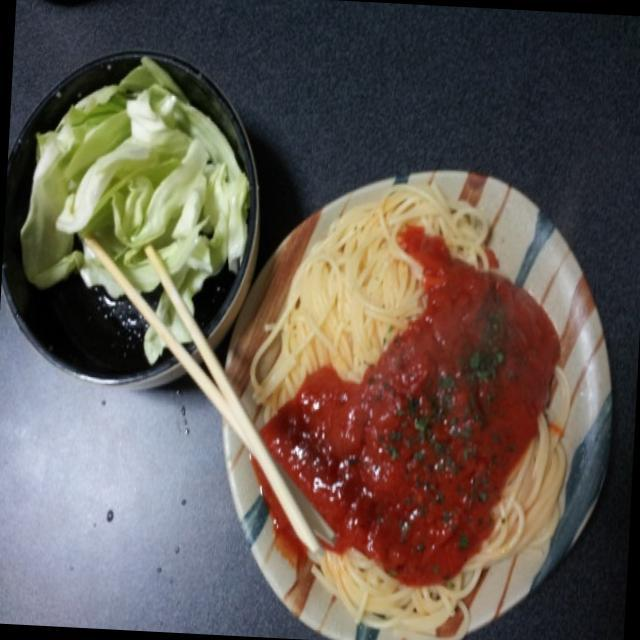Green Salad: (41, 64, 244, 335)
